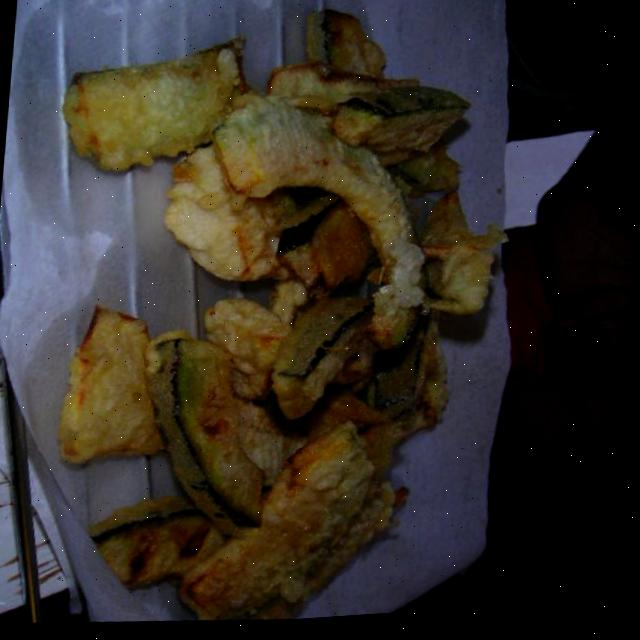蔬菜料理: (2, 0, 536, 639)
